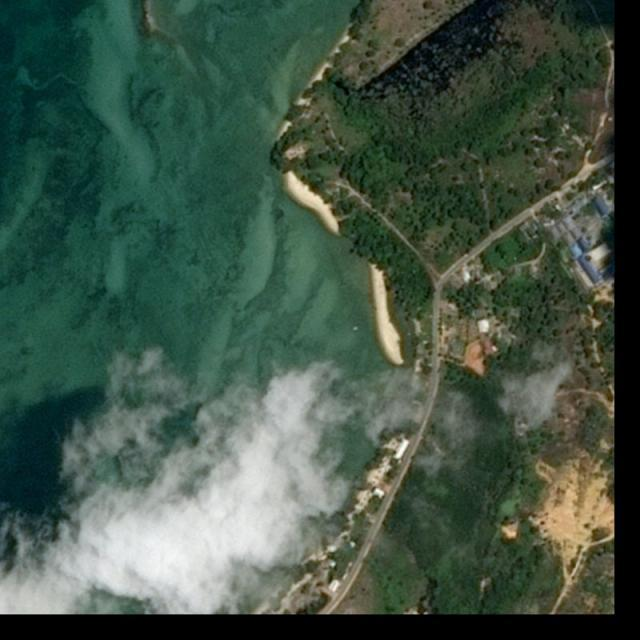ship: (354, 326, 359, 332)
